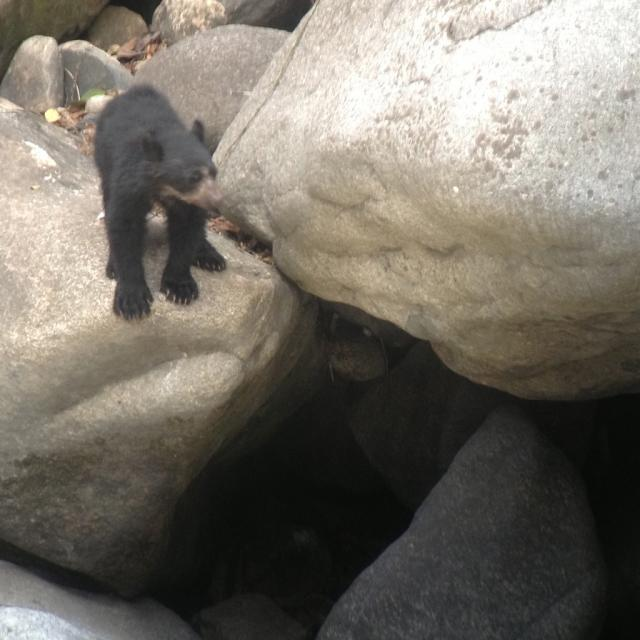Buffalo: (93, 80, 226, 322)
